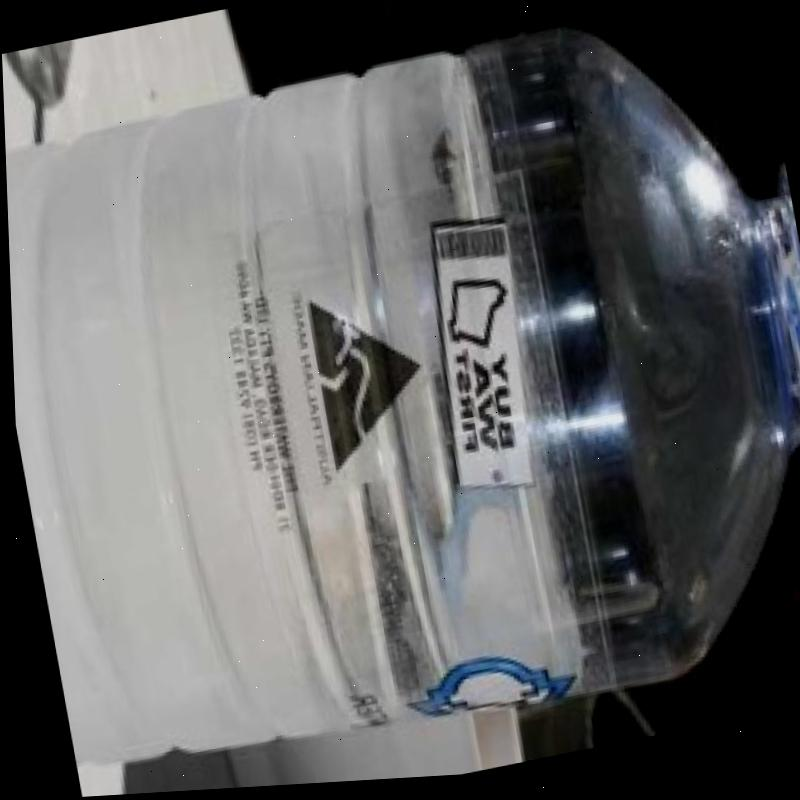botella: (1, 0, 800, 800)
